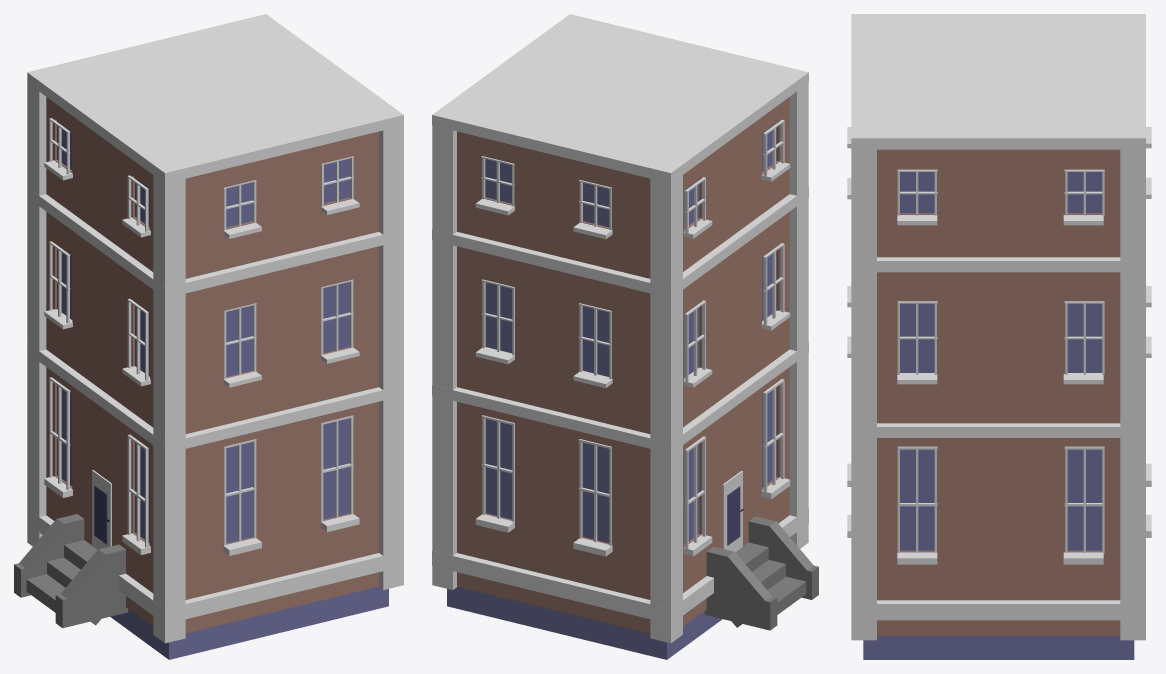
The model's file is edificio.fbx.
3 renders of one model, left to right at view 1: azimuth 30°, elevation 25°; view 2: azimuth 150°, elevation 25°; view 3: azimuth 270°, elevation 25°, orthographic. The views are drawn at different scales.
Visible parts, largest first — view 1: pCube143; view 2: pCube143; view 3: pCube143.
Part boxes in pixels (bbox=[...]): pCube143: bbox=[14, 14, 403, 659]; pCube143: bbox=[432, 14, 818, 659]; pCube143: bbox=[847, 14, 1151, 659].
Size of the model in its own units: 2.14 by 3.37 by 1.76.
